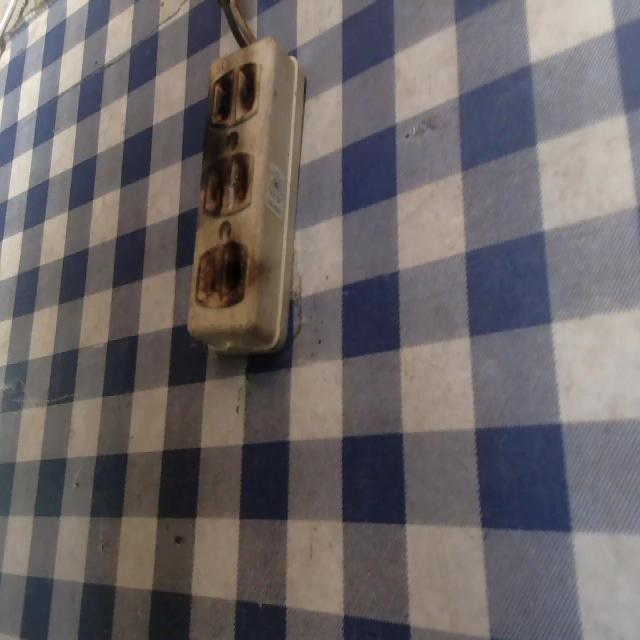-: (192, 236, 250, 316), (209, 56, 260, 128), (201, 148, 253, 217)
